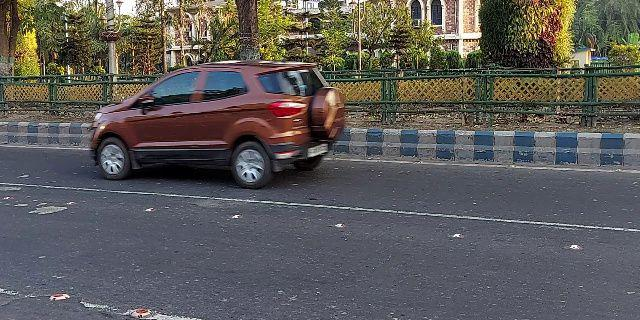Car: (88, 59, 347, 188)
